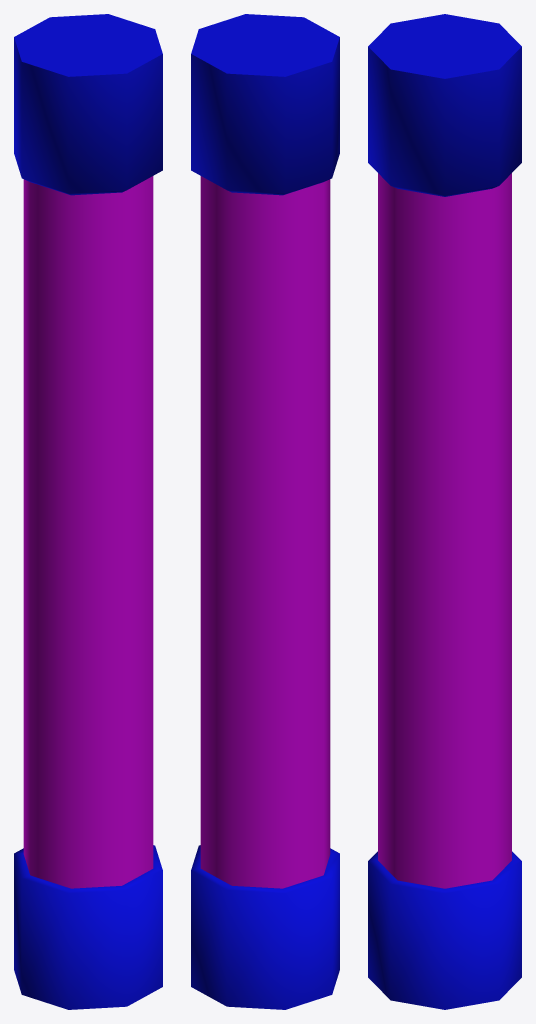
Rendered from glowstick.fbx.
The picture shows the model from 3 angles, left to right: view 1: azimuth 30°, elevation 25°; view 2: azimuth 150°, elevation 25°; view 3: azimuth 270°, elevation 25°; orthographic projection.
Visible parts, largest first — view 1: GLOWSTICK; view 2: GLOWSTICK; view 3: GLOWSTICK.
Part boxes in pixels (x1,y1,x2,y2): GLOWSTICK: (14,14,162,1009); GLOWSTICK: (191,14,339,1009); GLOWSTICK: (368,14,521,1009).
Bounding box in the file's own units: 0.1739 × 1.16 × 0.1739.
